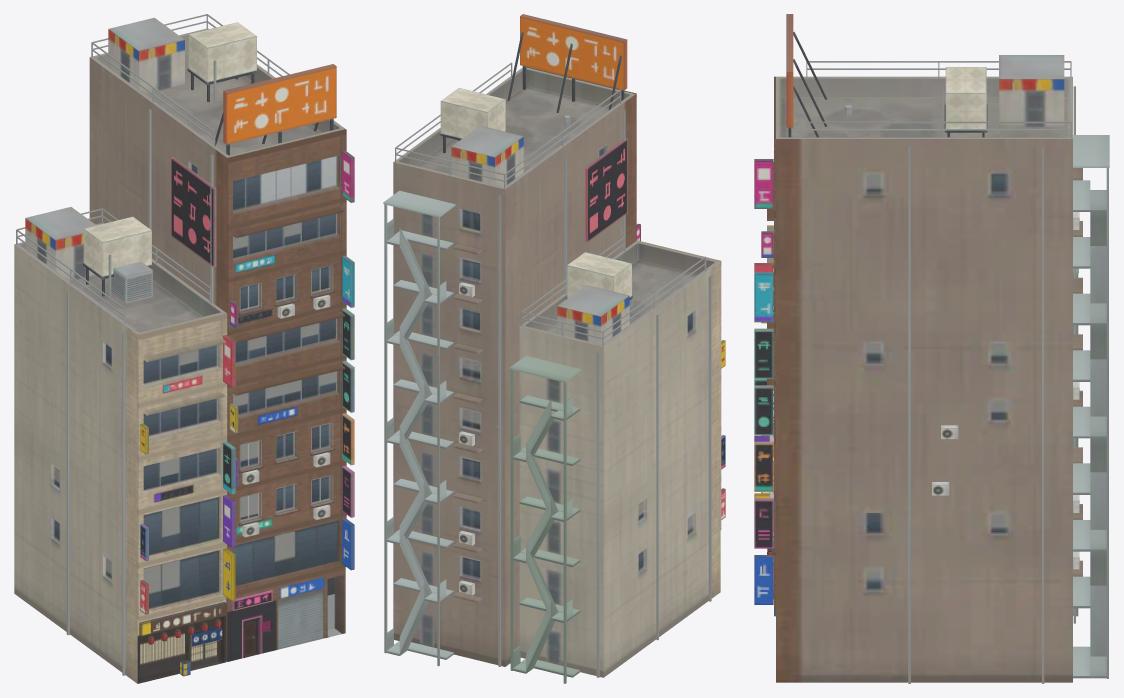
Rendered from tokyo_zakkyo_c.glb.
The picture shows the model from 3 angles, left to right: view 1: azimuth 30°, elevation 25°; view 2: azimuth 150°, elevation 25°; view 3: azimuth 270°, elevation 25°; orthographic projection. The views are drawn at different scales.
Visible parts, largest first — view 1: tokyo_zakkyo_c; view 2: tokyo_zakkyo_c; view 3: tokyo_zakkyo_c.
Part boxes in pixels (bbox=[...]): tokyo_zakkyo_c: bbox=[14, 14, 354, 683]; tokyo_zakkyo_c: bbox=[383, 14, 725, 683]; tokyo_zakkyo_c: bbox=[754, 14, 1109, 683].
Bounding box in the file's own units: 13.12 × 32.8 × 17.37.
1 material, 1 textured.
